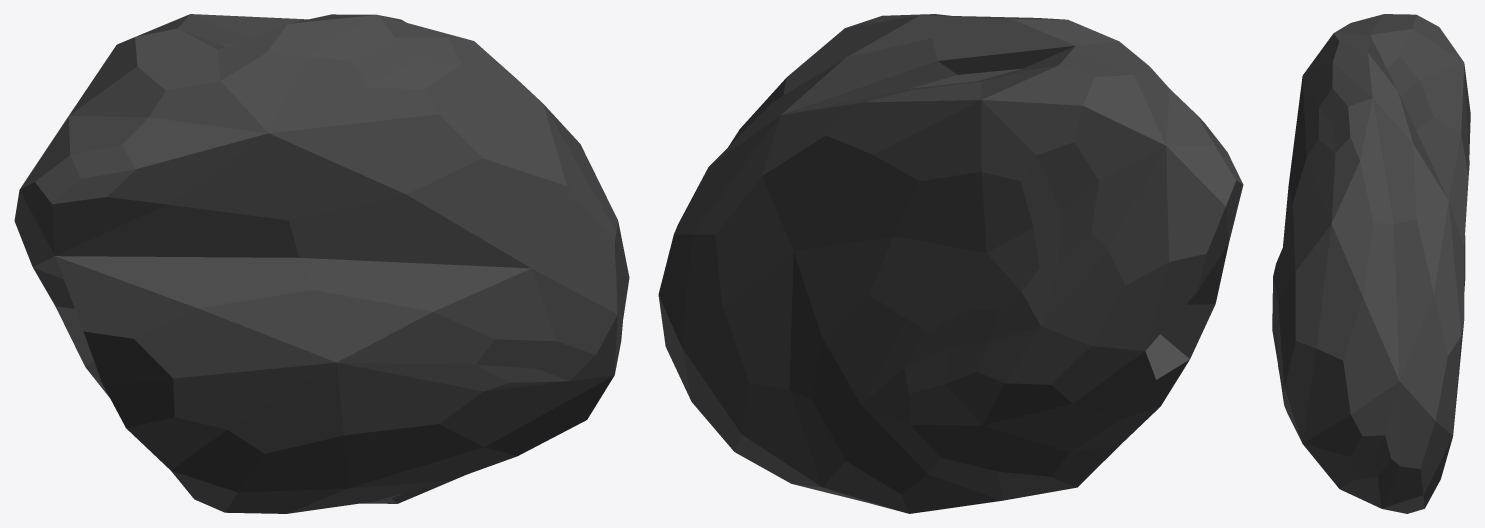
The model's file is Asteroid (4).glb.
3 views of the same model, side by side, from view 1: azimuth 30°, elevation 25°; view 2: azimuth 150°, elevation 25°; view 3: azimuth 270°, elevation 25° (orthographic). The views are drawn at different scales.
Visible parts, largest first — view 1: Sphere.015; view 2: Sphere.015; view 3: Sphere.015.
Part boxes in pixels (x1,y1,x2,y2): Sphere.015: (14, 14, 629, 513); Sphere.015: (658, 14, 1243, 513); Sphere.015: (1272, 14, 1470, 513).
Size of the model in its own units: 7.45 by 6.42 by 2.95.
1 material, 1 textured.
